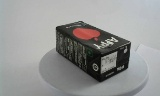appy: (51, 20, 123, 83)
